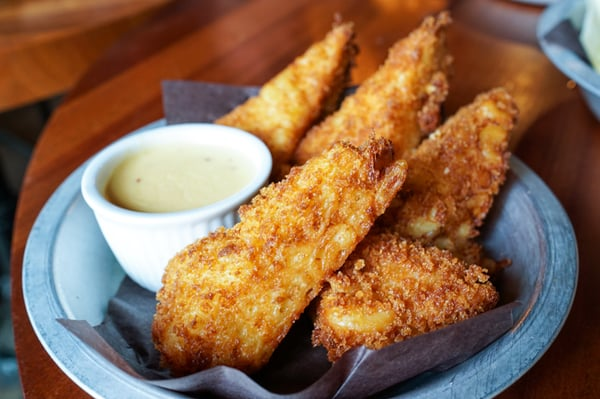sushi: (80, 123, 273, 294), (535, 2, 600, 126)
